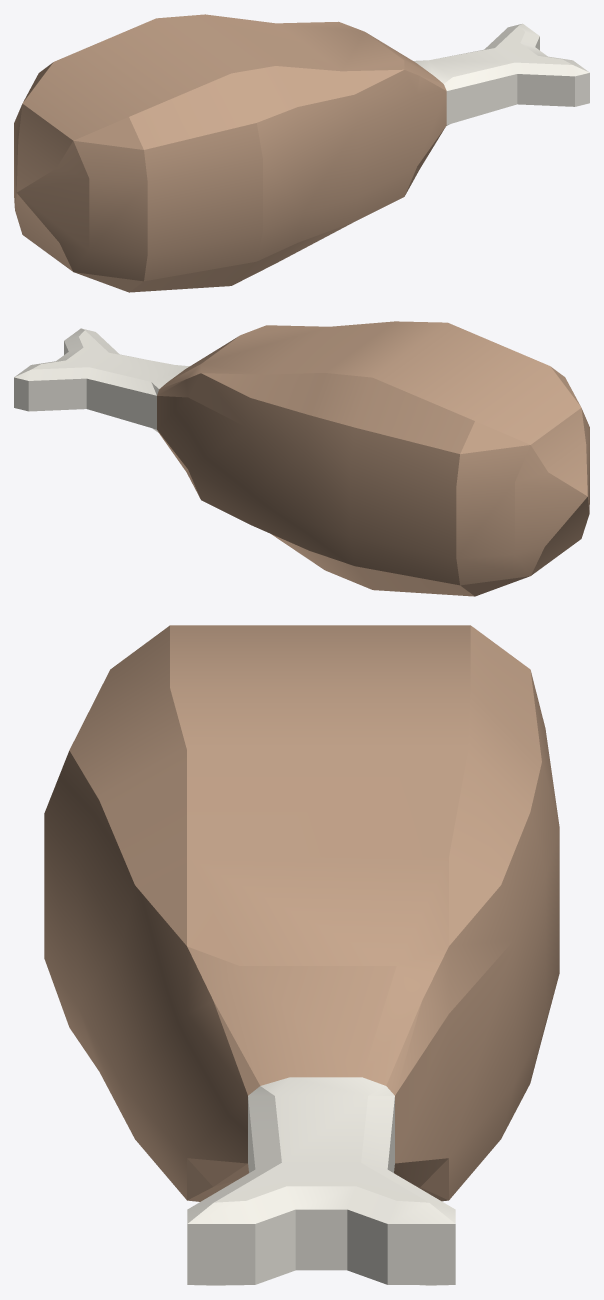
Rendered from udko.fbx.
3 renders of one model, top to bottom at view 1: azimuth 30°, elevation 25°; view 2: azimuth 150°, elevation 25°; view 3: azimuth 270°, elevation 25°, orthographic. The views are drawn at different scales.
Visible parts, largest first — view 1: Udko; view 2: Udko; view 3: Udko.
Part boxes in pixels (bbox=[...]): Udko: bbox=[14, 14, 589, 292]; Udko: bbox=[14, 321, 589, 596]; Udko: bbox=[44, 625, 559, 1285].
Size of the model in its own units: 7.01 by 2.64 by 2.9.
